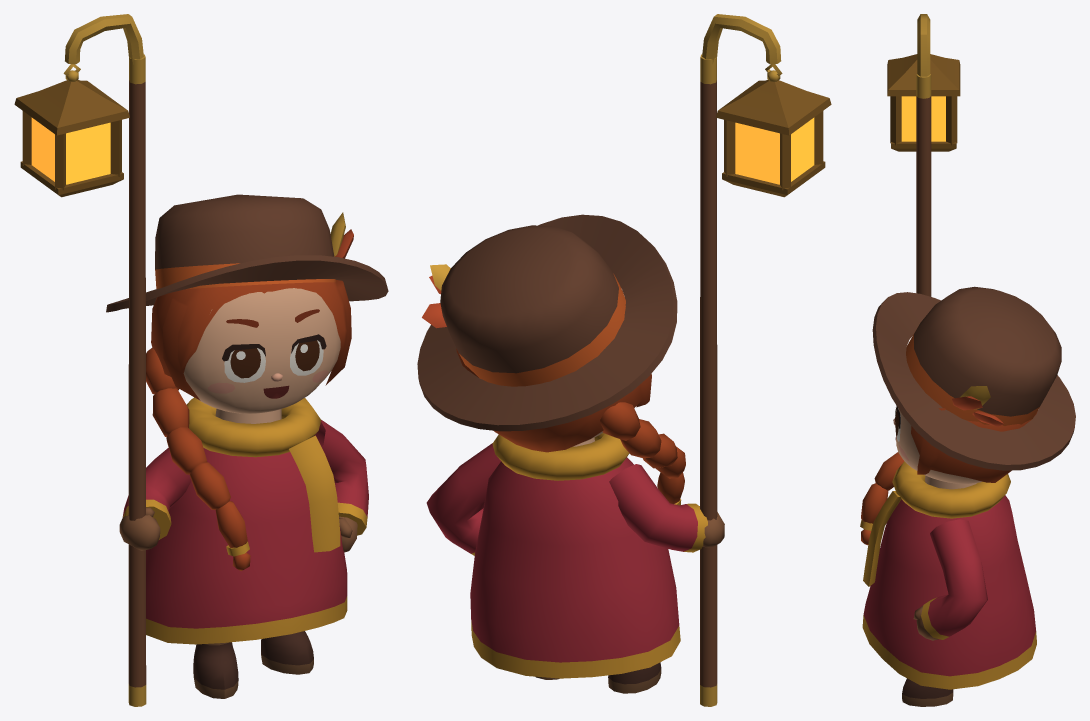
Rendered from lamplighter.glb.
3 renders of one model, left to right at view 1: azimuth 30°, elevation 25°; view 2: azimuth 150°, elevation 25°; view 3: azimuth 270°, elevation 25°, orthographic. The views are drawn at different scales.
Parts seen in each view (by area): view 1: lamplighter; view 2: lamplighter; view 3: lamplighter.
Part boxes in pixels (x1=…): lamplighter: x1=14, y1=14, x2=388, y2=706; lamplighter: x1=417, y1=14, x2=831, y2=706; lamplighter: x1=860, y1=14, x2=1075, y2=706.
Size of the model in its own units: 0.7696 by 1.43 by 0.4649.
